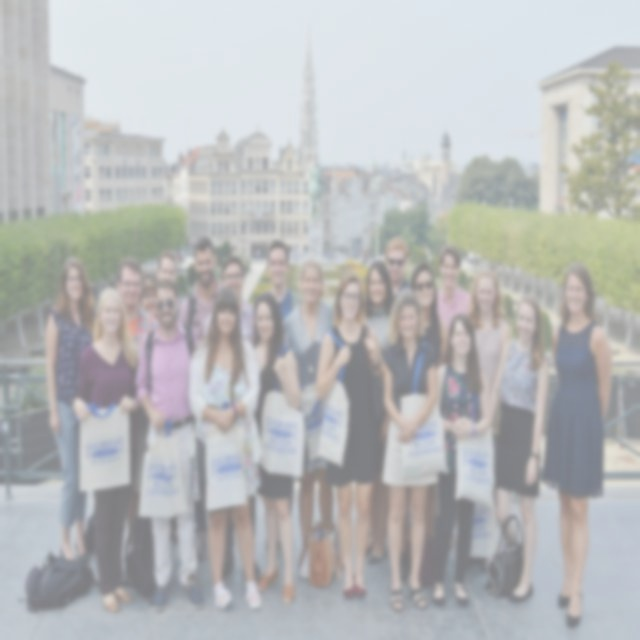pessoa: (539, 260, 614, 630), (186, 283, 265, 613), (71, 283, 148, 613), (135, 276, 206, 613), (313, 268, 384, 602), (425, 306, 498, 610), (202, 254, 262, 582), (489, 294, 551, 608), (381, 284, 438, 614), (44, 250, 101, 568), (281, 258, 336, 582), (176, 234, 228, 564), (249, 290, 302, 606), (364, 259, 396, 567), (465, 266, 512, 404), (407, 260, 450, 370), (114, 255, 158, 345), (434, 243, 473, 339), (265, 237, 302, 321), (154, 248, 184, 320), (383, 235, 410, 294), (138, 270, 162, 321), (307, 160, 322, 214), (359, 240, 368, 266), (247, 246, 261, 261)
